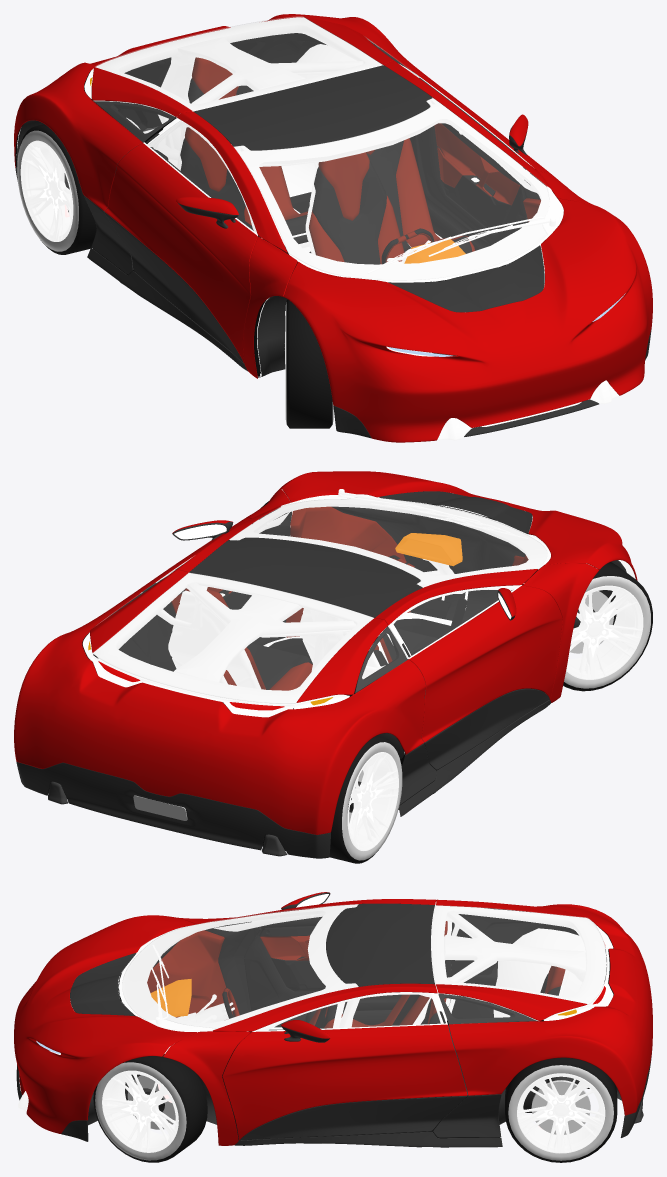
Rendered from car-concept.glb.
3 views of the same model, one above another, from view 1: azimuth 30°, elevation 25°; view 2: azimuth 150°, elevation 25°; view 3: azimuth 270°, elevation 25° (orthographic). The views are drawn at different scales.
Parts seen in each view (by area): view 1: BodyHood, BodyWindshield, BodyRearwindow, BodyDoorRColor1, BodyRearPanelsColor1, BodyRoofPanel, BodyWindshieldGasket, InteriorSeatsColor1, InteriorSeatsColor2, BodyPillars, InteriorPillar, InteriorRearHatch (+21 smaller); view 2: BodyRearPanelsColor1, BodyRearwindow, BodyWindshield, BodyDoorRColor1, BodyPanelsColor2, BodyRoofPanel, BodyHood, InteriorRearHatch, BodyPillars, InteriorPillar, BodyWindshieldGasket, InteriorDashMid (+22 smaller); view 3: BodyRearPanelsColor1, BodyWindshield, BodyDoorLColor1, BodyHood, BodyRearwindow, BodyRoofPanel, BodyPillars, BodyWindshieldGasket, BodyDoorLColor2, BodyPanelsColor2, WheelFrontL, InteriorRearHatch (+25 smaller).
Part boxes in pixels (x1,y1,x2,y2): BodyHood: [283, 198, 652, 442]; BodyWindshield: [234, 98, 549, 280]; BodyRearwindow: [95, 16, 382, 110]; BodyDoorRColor1: [104, 143, 257, 362]; BodyRearPanelsColor1: [14, 14, 428, 210]; BodyRoofPanel: [193, 65, 432, 150]; BodyWindshieldGasket: [234, 99, 563, 282]; InteriorSeatsColor1: [185, 57, 475, 264]; InteriorSeatsColor2: [180, 78, 472, 264]; BodyPillars: [176, 61, 598, 378]; InteriorPillar: [158, 37, 434, 168]; InteriorRearHatch: [93, 17, 383, 117]; BodyRearPanelsColor1: [14, 569, 425, 834]; BodyRearwindow: [92, 573, 373, 703]; BodyWindshield: [229, 497, 547, 587]; BodyDoorRColor1: [409, 585, 562, 742]; BodyPanelsColor2: [16, 700, 550, 858]; BodyRoofPanel: [189, 537, 422, 617]; BodyHood: [279, 471, 637, 580]; InteriorRearHatch: [93, 573, 386, 707]; BodyPillars: [175, 489, 599, 702]; InteriorPillar: [174, 574, 417, 682]; BodyWindshieldGasket: [230, 497, 550, 587]; InteriorDashMid: [331, 503, 528, 622]; BodyRearPanelsColor1: [436, 899, 652, 1115]; BodyWindshield: [122, 904, 357, 1028]; BodyDoorLColor1: [222, 1024, 467, 1139]; BodyHood: [14, 915, 196, 1133]; BodyRearwindow: [432, 905, 606, 1003]; BodyRoofPanel: [326, 903, 434, 986]; BodyPillars: [163, 899, 437, 1145]; BodyWindshieldGasket: [118, 905, 357, 1032]; BodyDoorLColor2: [240, 1096, 467, 1140]; BodyPanelsColor2: [16, 1050, 652, 1147]; WheelFrontL: [93, 1054, 207, 1162]; InteriorRearHatch: [431, 905, 606, 1020].
Size of the model in its own units: 2.54 by 1.15 by 4.36.
